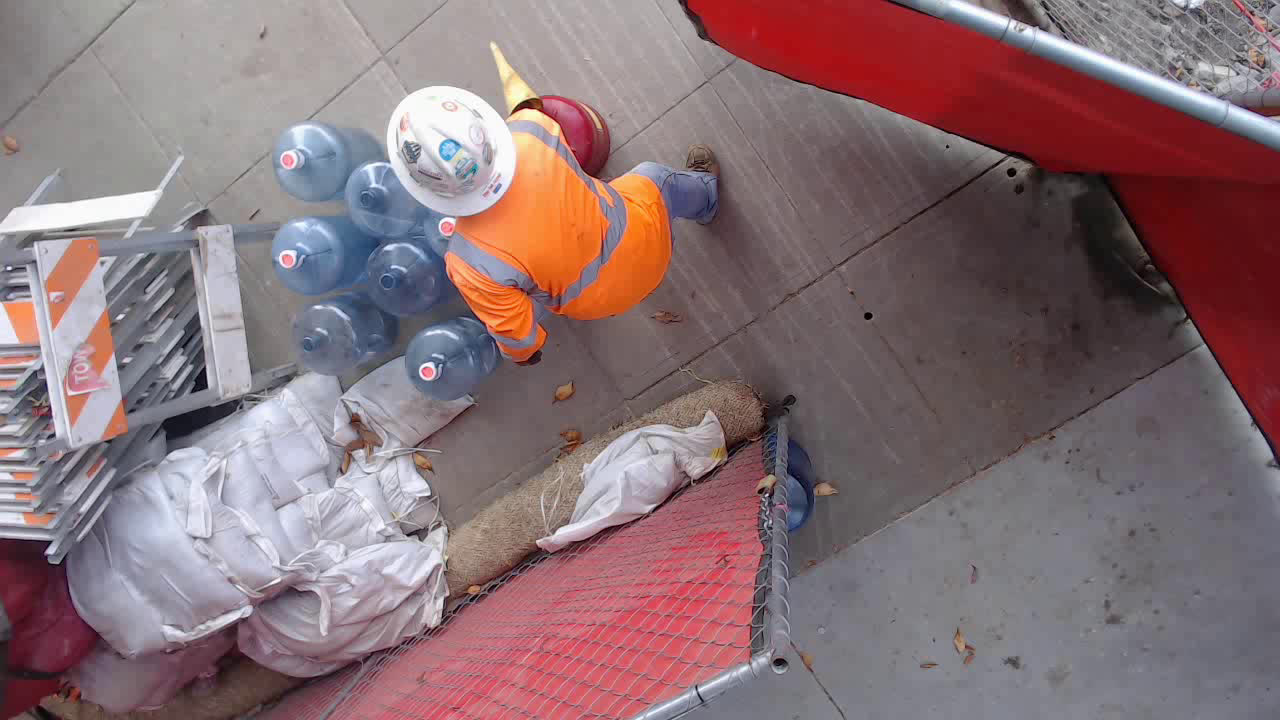hardhat: (384, 83, 514, 219)
safetyvest: (449, 112, 676, 365)
